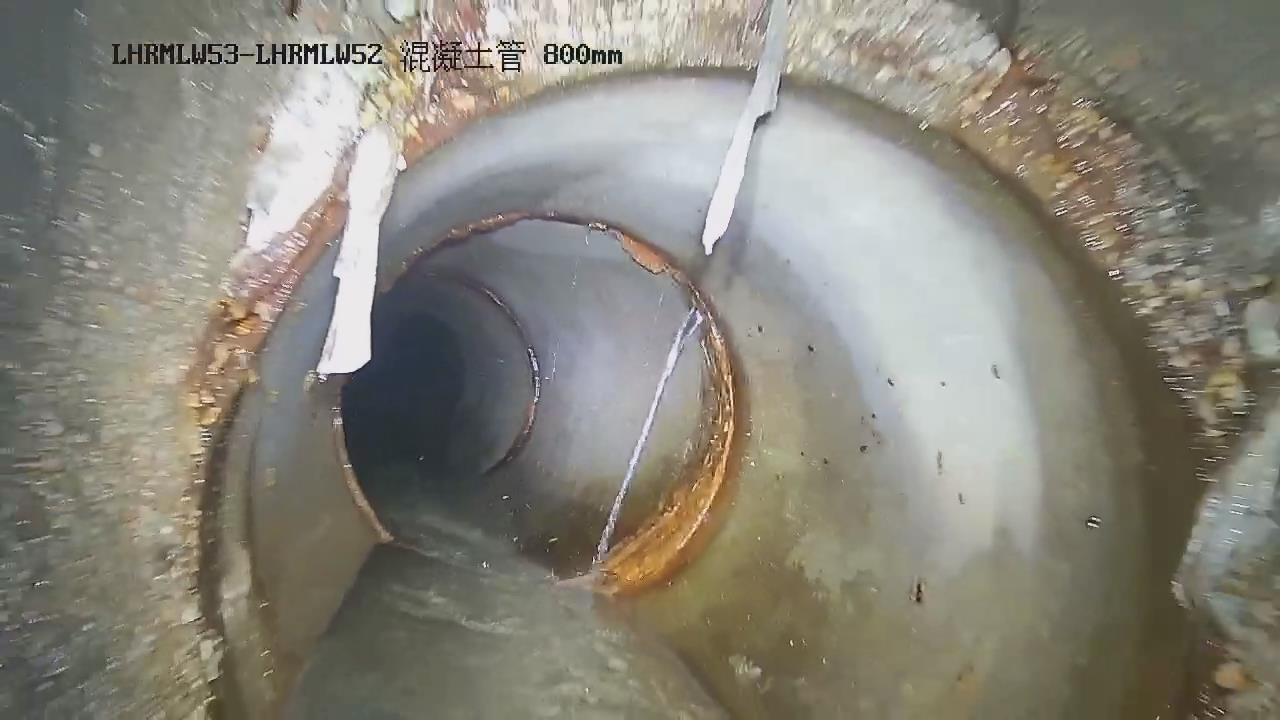SL: (570, 292, 720, 585)
